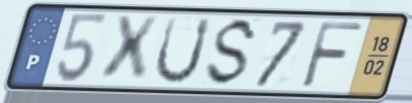5: (53, 11, 111, 87)
7: (253, 19, 310, 89)
F: (297, 19, 367, 91)
S: (201, 16, 261, 90)
U: (152, 14, 215, 87)
X: (97, 14, 162, 85)
